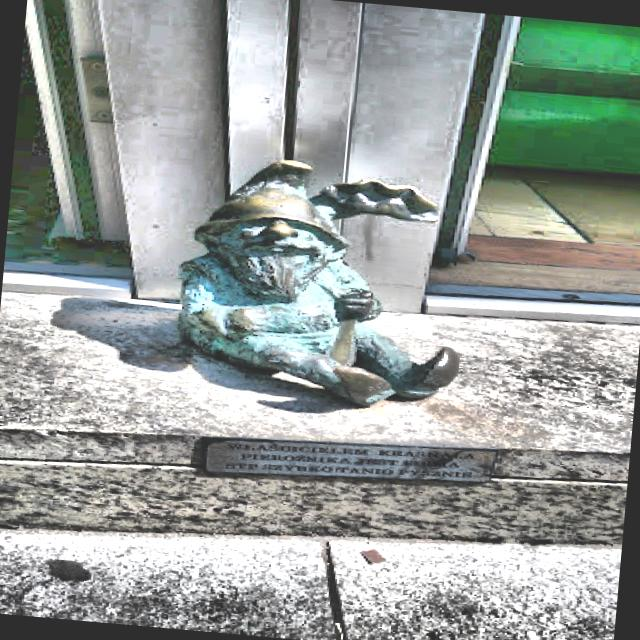Pieroznik: (178, 159, 459, 409)
